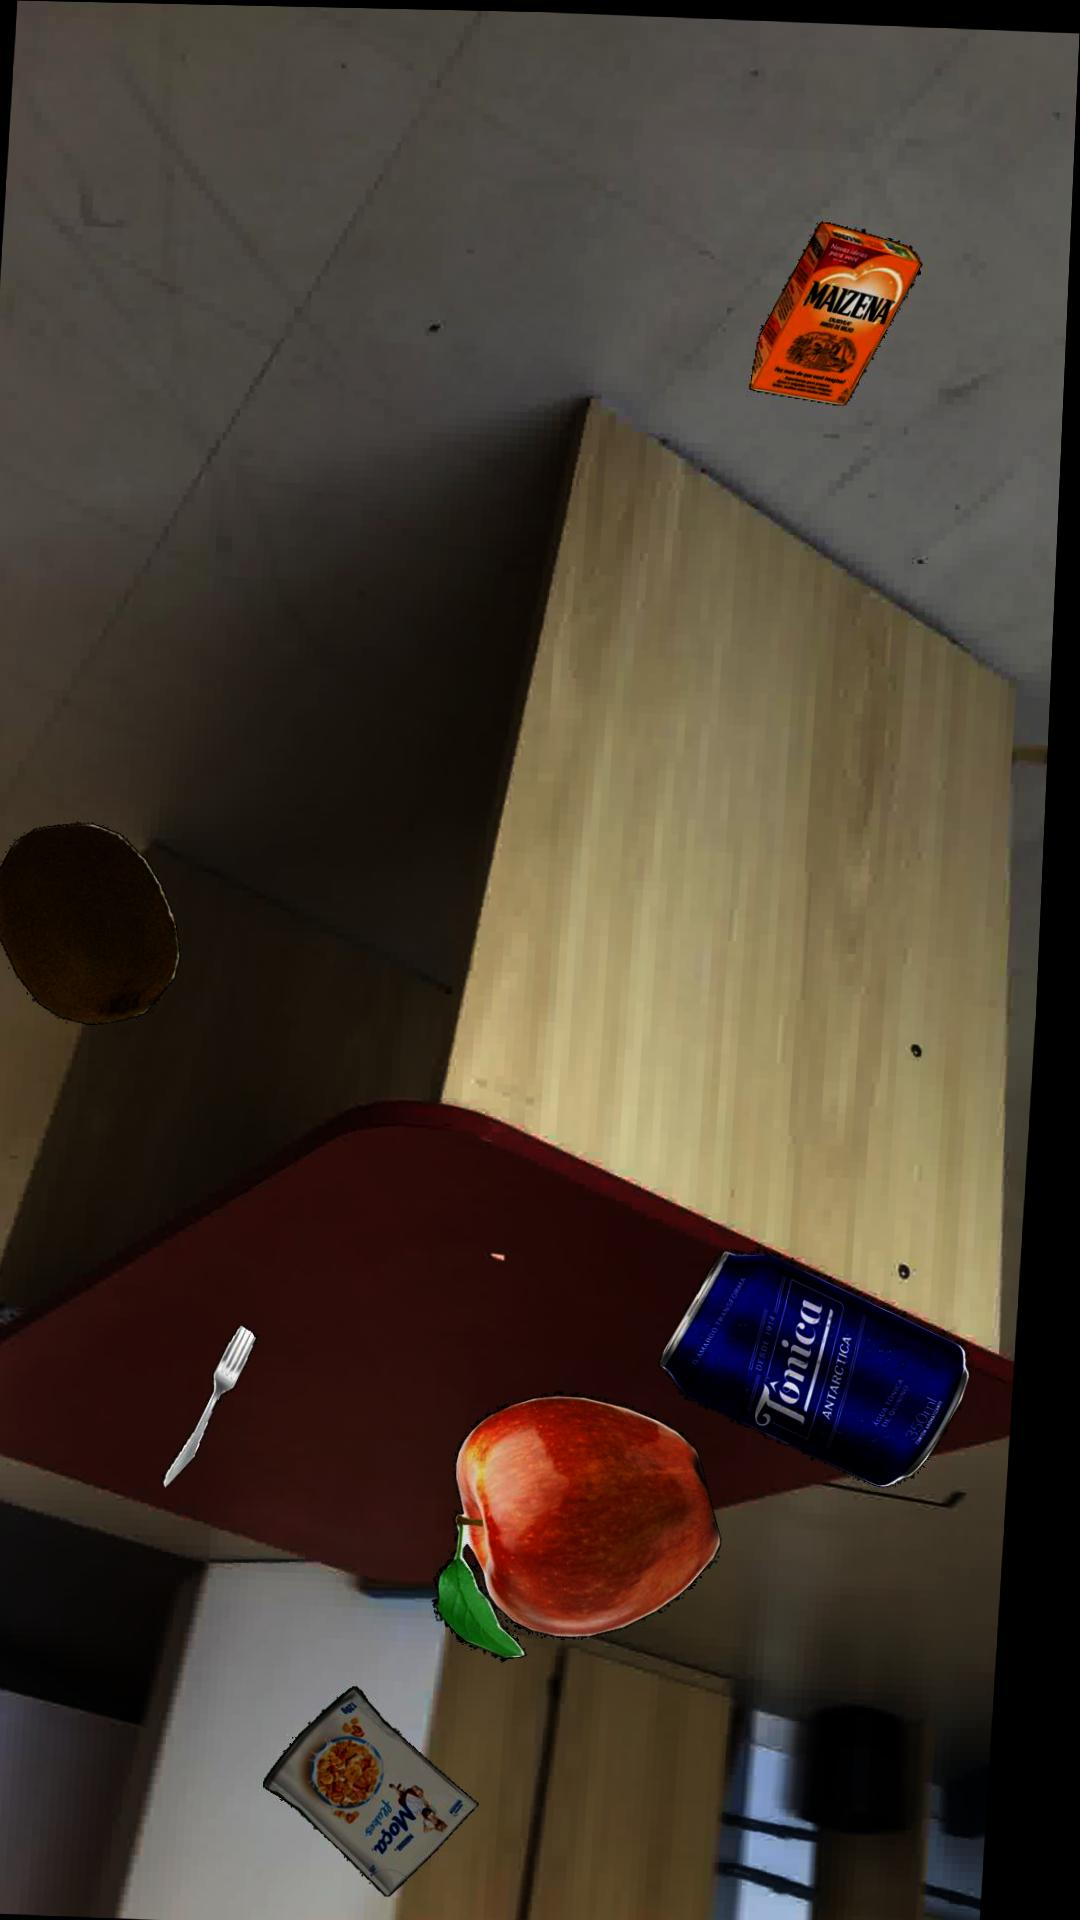apple: (444, 1391, 733, 1660)
corn flakes: (278, 1687, 493, 1896)
fork: (174, 1324, 269, 1489)
kiwi: (0, 823, 187, 1026)
tonic: (670, 1249, 981, 1485)
